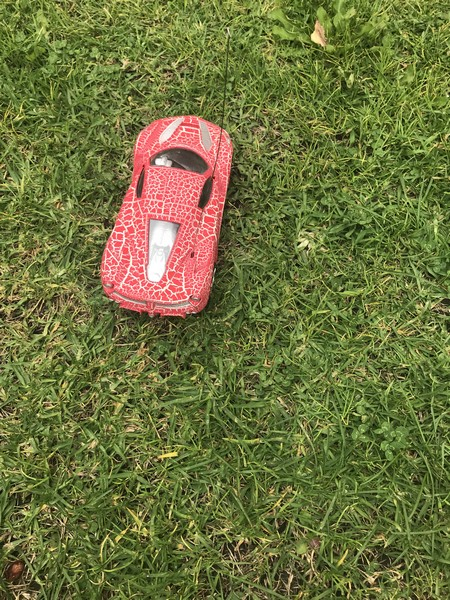RC: (97, 111, 237, 319)
